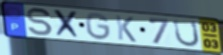7: (148, 16, 171, 46)
G: (84, 12, 113, 42)
K: (114, 14, 138, 44)
S: (26, 7, 55, 38)
U: (172, 18, 201, 48)
X: (52, 8, 82, 40)
